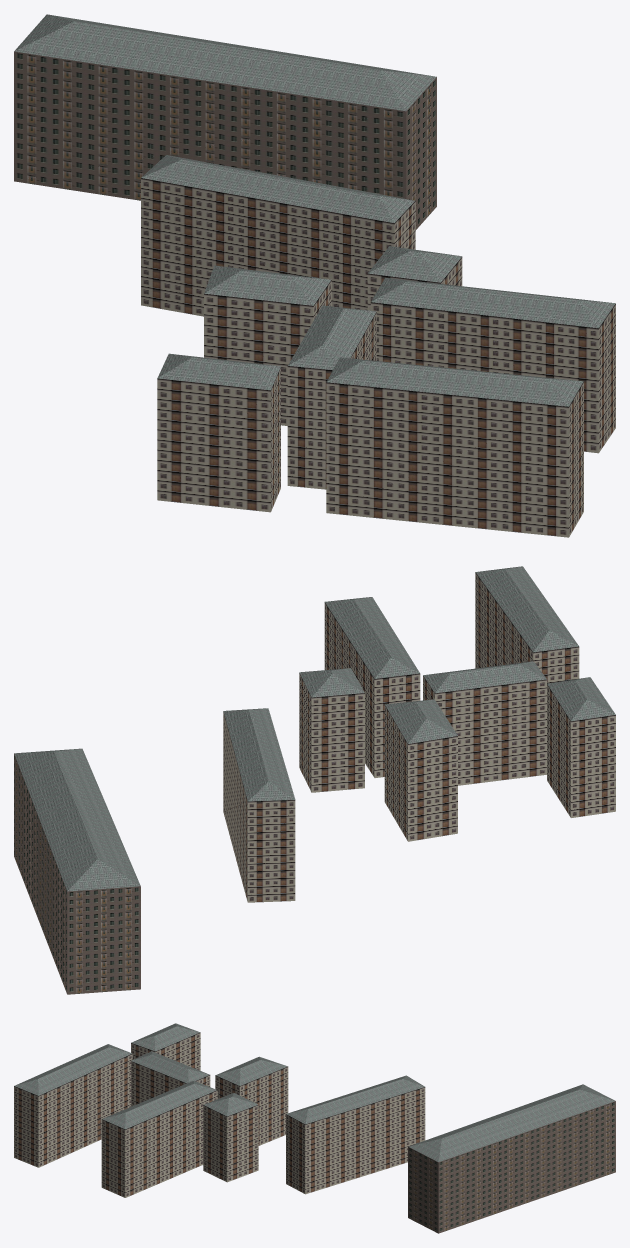
The model's file is GrupoEdificios2.FBX.
The picture shows the model from 3 angles, top to bottom: view 1: azimuth 30°, elevation 25°; view 2: azimuth 150°, elevation 25°; view 3: azimuth 270°, elevation 25°; orthographic projection. The views are drawn at different scales.
Visible parts, largest first — view 1: Model6, Model22, Model5, Model21, Model1, Model14, Model45, Model48; view 2: Model6, Model5, Model45, Model14, Model22, Model1, Model21, Model48; view 3: Model6, Model5, Model22, Model21, Model48, Model14, Model45, Model1.
Boxes of the visible parts, box(x1,y1,x2,y2) form: Model6: box(14, 14, 436, 229); Model22: box(326, 357, 583, 537); Model5: box(141, 155, 415, 316); Model21: box(370, 277, 615, 453); Model1: box(157, 353, 280, 512); Model14: box(204, 265, 331, 425); Model45: box(287, 305, 376, 489); Model48: box(367, 246, 462, 310); Model6: box(14, 748, 140, 994); Model5: box(223, 708, 295, 902); Model45: box(423, 661, 546, 785); Model14: box(384, 699, 457, 841); Model22: box(475, 566, 579, 683); Model1: box(547, 677, 615, 817); Model21: box(324, 597, 420, 777); Model48: box(299, 668, 364, 792); Model6: box(408, 1084, 615, 1233); Model5: box(286, 1075, 425, 1194); Model22: box(14, 1044, 132, 1167); Model21: box(101, 1080, 217, 1197); Model48: box(203, 1093, 258, 1182); Model14: box(215, 1056, 288, 1145); Model45: box(131, 1051, 210, 1106); Model1: box(131, 1023, 200, 1070).
Size of the model in its own units: 16113 by 4658 by 29474.
